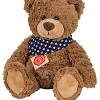teddy: (2, 1, 100, 98)
